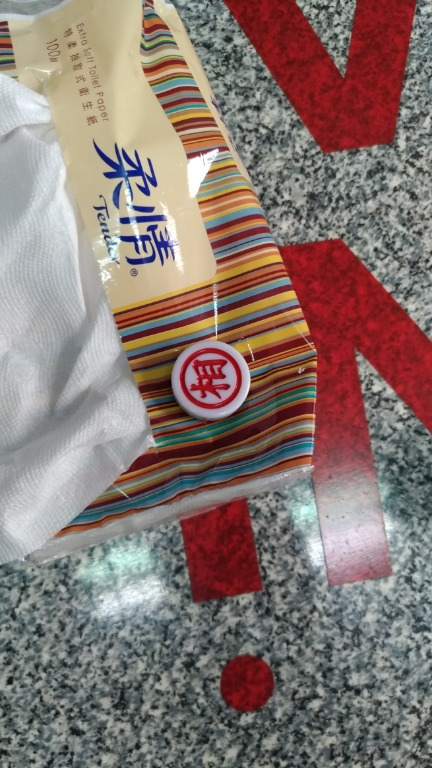r-elephant: (168, 327, 261, 427)
